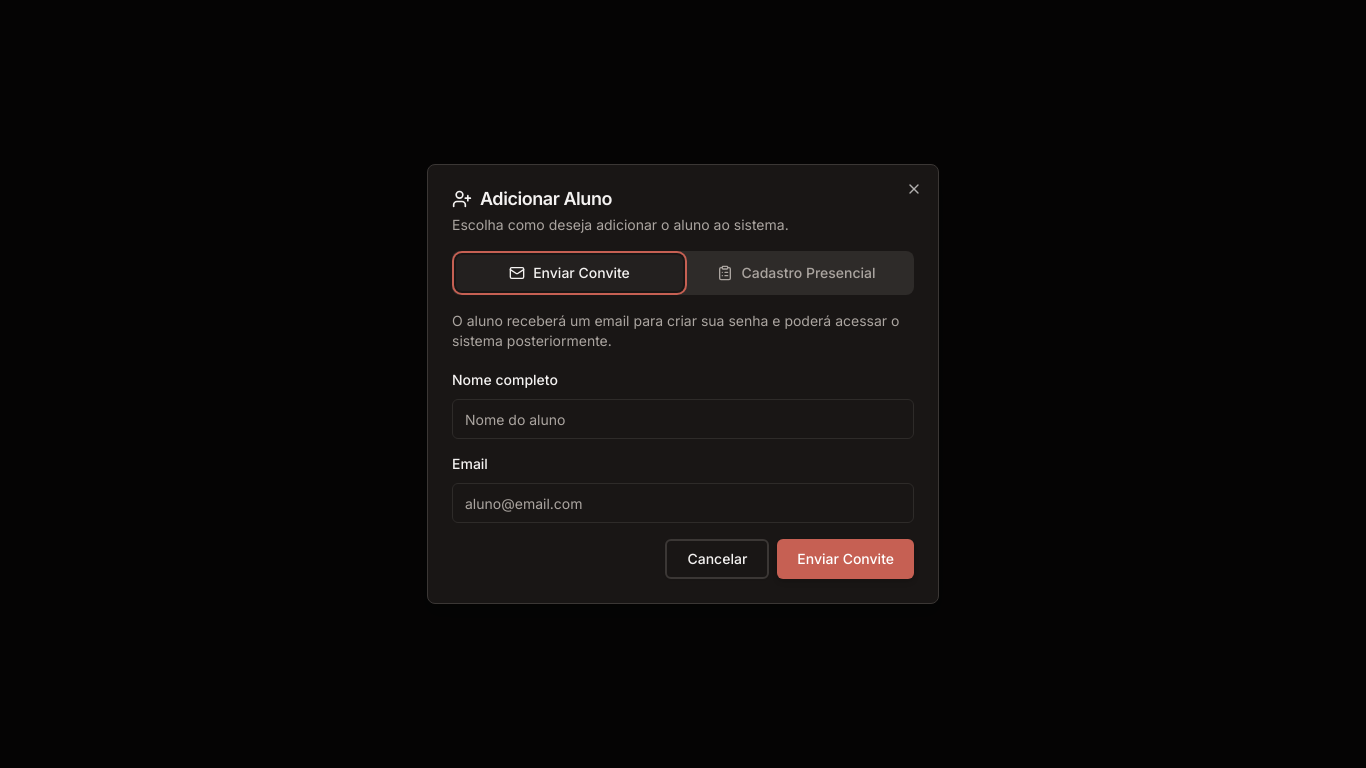
Scenario: convite para conta que já existia: não promete e-mail
Type "Aluno Sintético" into the field labelled "Nome completo" at point(683, 419), box x1=452 y1=399 x2=914 y2=439
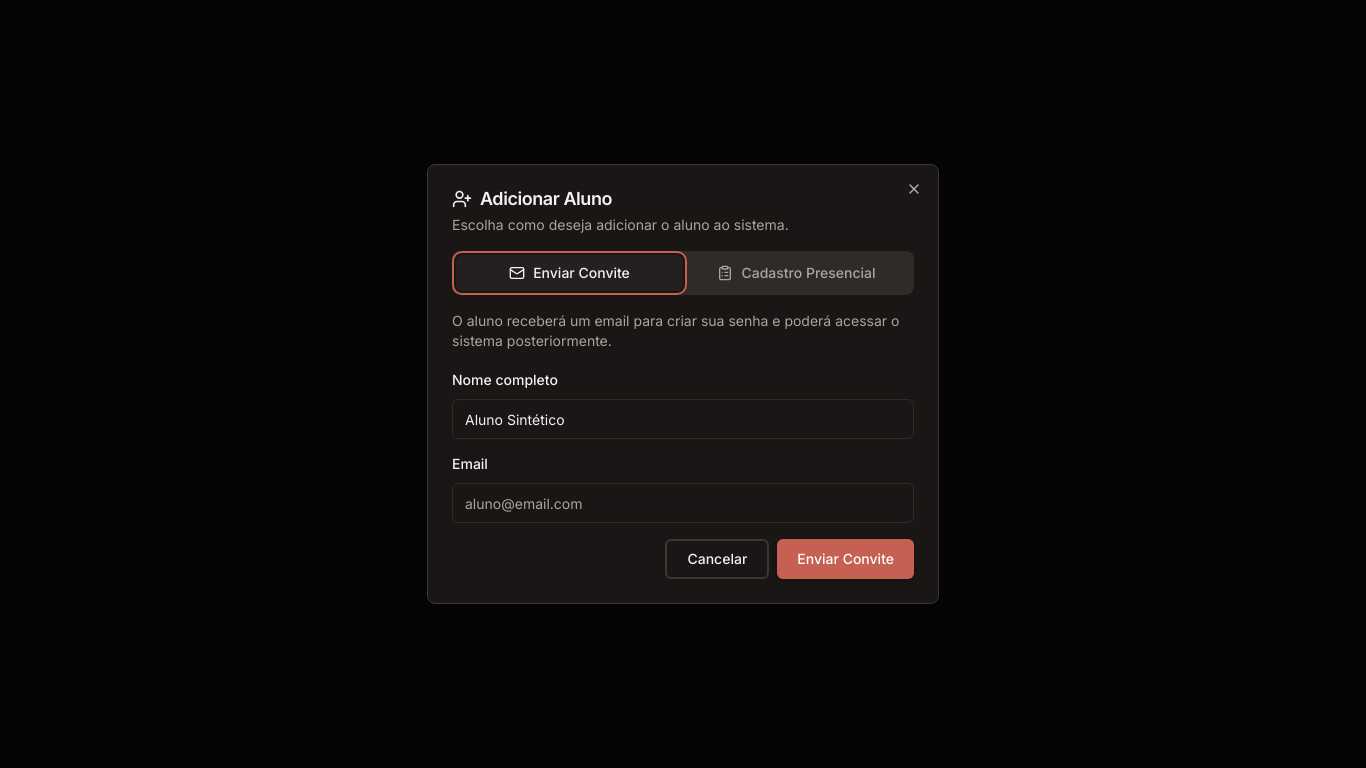
Type "prof@example.invalid" into the field labelled "Email" at point(683, 503), box x1=452 y1=483 x2=914 y2=523
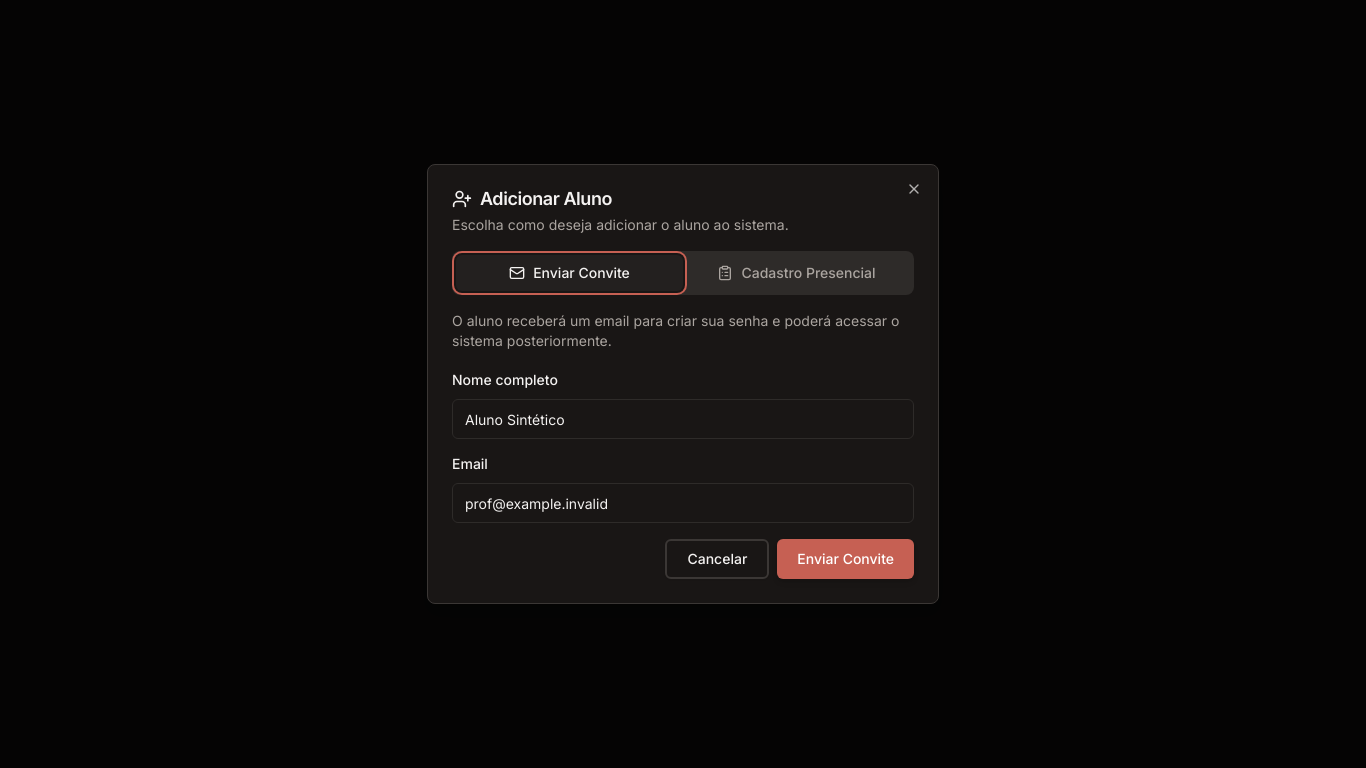
Click the button "Enviar Convite" at point(846, 559), box x1=777 y1=539 x2=914 y2=579
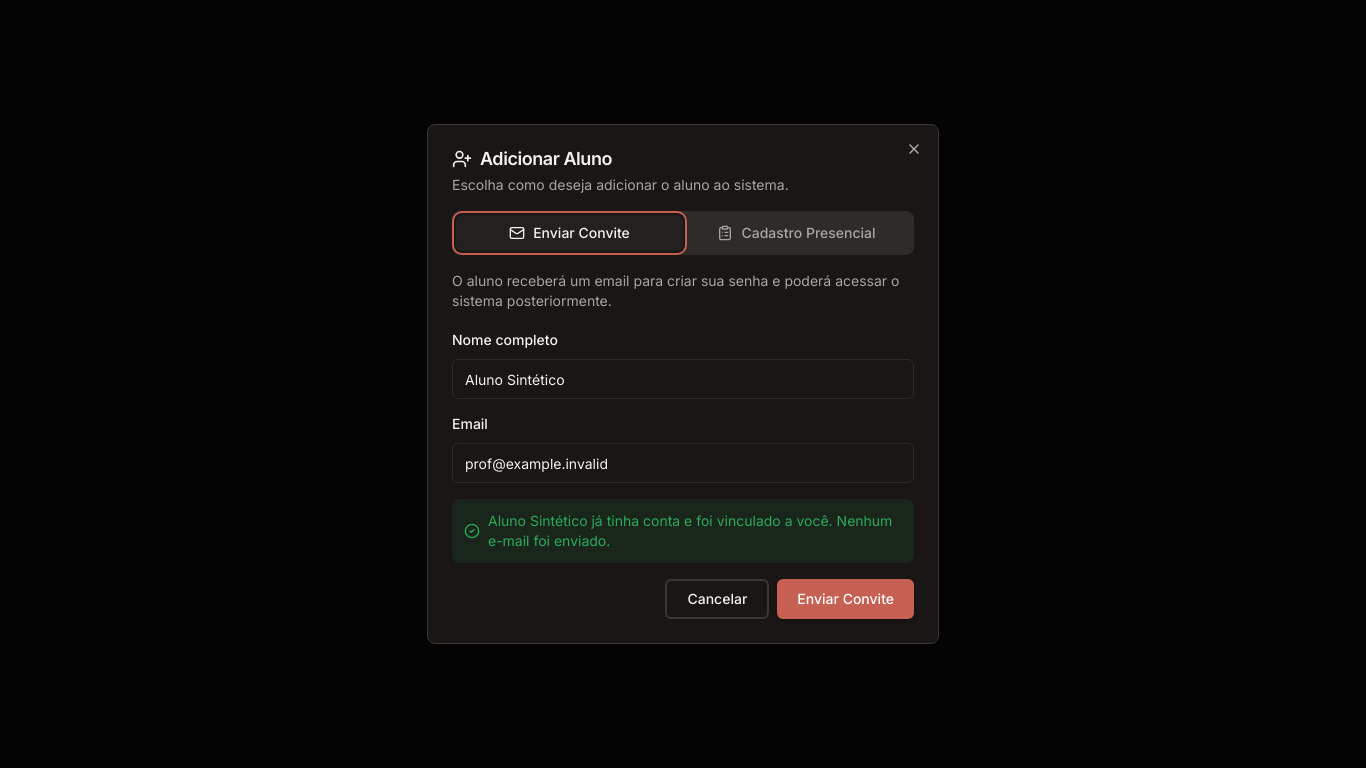
Now the text "Nenhum e-mail foi enviado" is shown, box x1=488 y1=512 x2=892 y2=549
